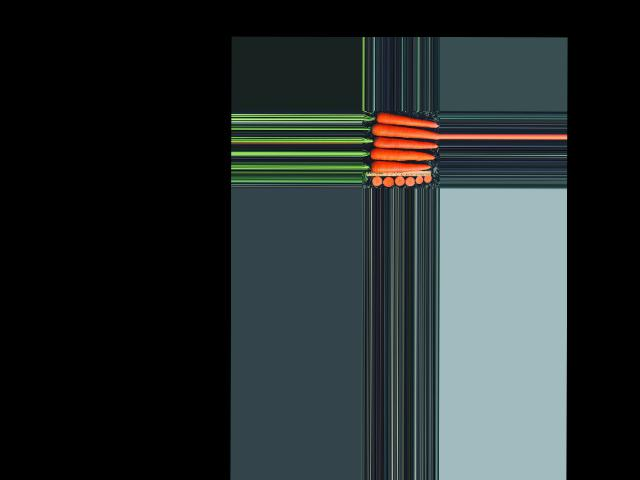carrot: (365, 161, 434, 176)
